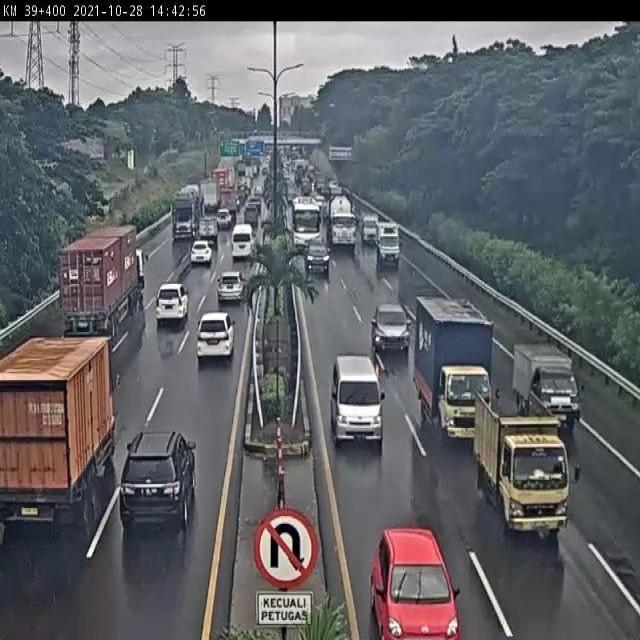big truck: (0, 334, 123, 530), (58, 224, 152, 351)
bus-s-: (329, 354, 388, 454)
car: (121, 431, 197, 538), (194, 311, 238, 365), (371, 300, 411, 356), (155, 277, 191, 324), (305, 240, 331, 277), (217, 269, 245, 303), (232, 222, 255, 258), (191, 239, 215, 269)
truck-m-: (474, 391, 571, 541), (414, 293, 496, 447)
truck-s-: (512, 341, 582, 431), (376, 222, 401, 266)
